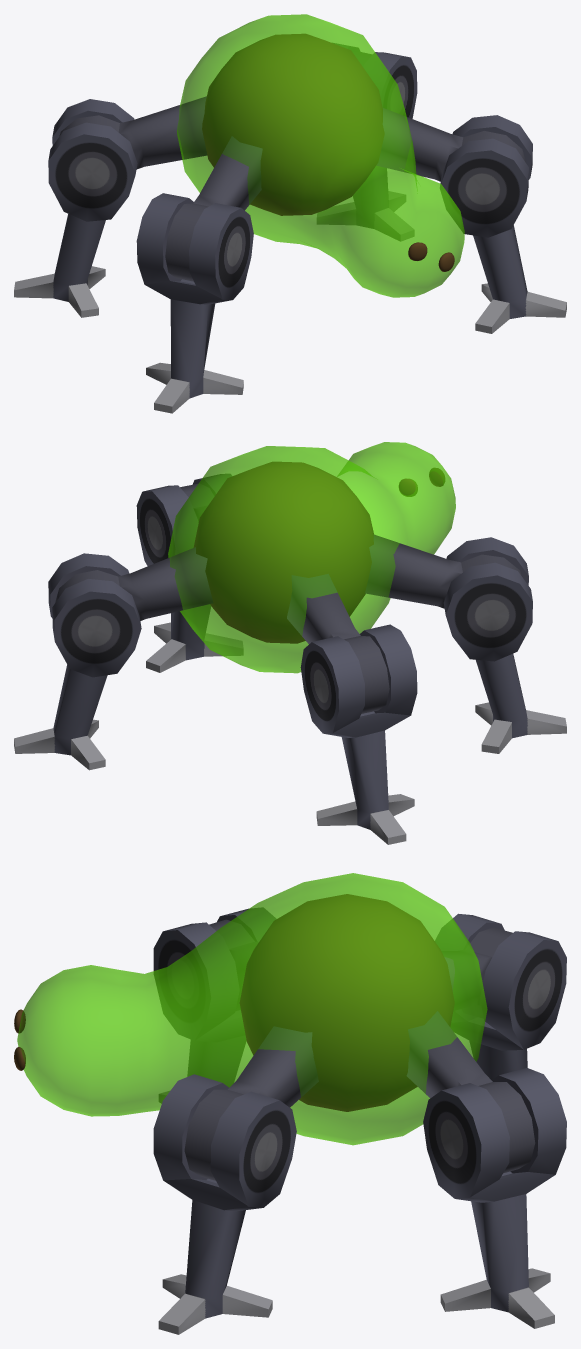
The model's file is jumper.fbx.
The picture shows the model from 3 angles, top to bottom: view 1: azimuth 30°, elevation 25°; view 2: azimuth 150°, elevation 25°; view 3: azimuth 270°, elevation 25°; orthographic projection. The views are drawn at different scales.
Visible parts, largest first — view 1: polySurface66, pCube4; view 2: polySurface66, pCube4; view 3: polySurface66, pCube4.
Boxes of the visible parts, x1,y1,x2,y2 form: polySurface66: [14, 43, 566, 413]; pCube4: [177, 14, 464, 297]; polySurface66: [14, 474, 566, 844]; pCube4: [168, 442, 455, 673]; polySurface66: [153, 907, 566, 1334]; pCube4: [14, 873, 487, 1145].
Bounding box in the file's own units: 1.85 × 1.19 × 1.81.
3 materials, 1 textured.
